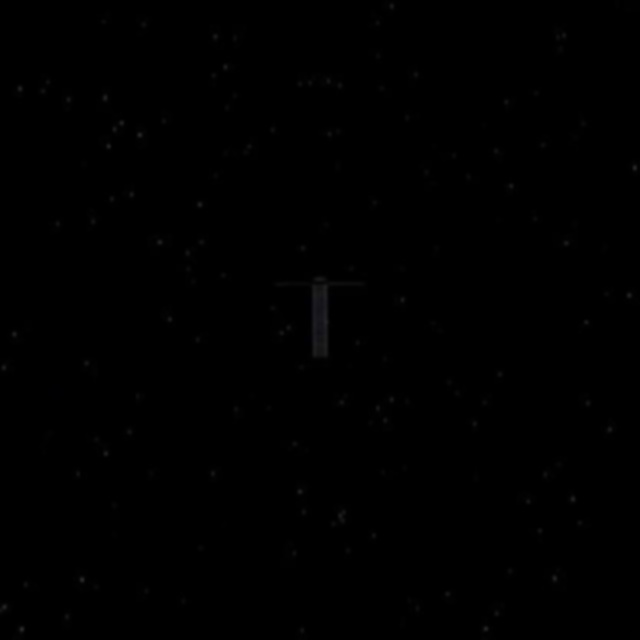satellite: (254, 267, 374, 356)
